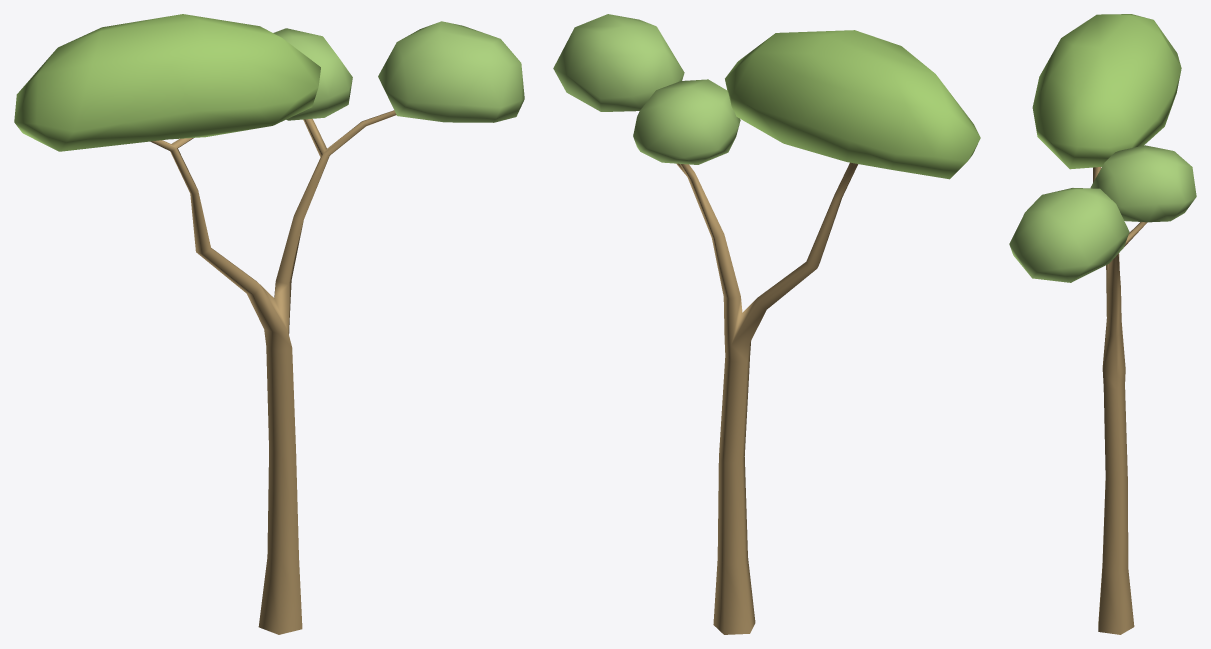
Rendered from acacia-tree-s-03.glb.
3 renders of one model, left to right at view 1: azimuth 30°, elevation 25°; view 2: azimuth 150°, elevation 25°; view 3: azimuth 270°, elevation 25°, orthographic. The views are drawn at different scales.
Visible parts, largest first — view 1: Acacia_Tree_s_03; view 2: Acacia_Tree_s_03; view 3: Acacia_Tree_s_03.
Part boxes in pixels (<box>): Acacia_Tree_s_03: <box>14,14,524,634</box>; Acacia_Tree_s_03: <box>553,14,980,634</box>; Acacia_Tree_s_03: <box>1009,14,1196,634</box>.
Size of the model in its own units: 5.04 by 6.57 by 2.06.
Materials: 1 (1 with a texture image).
